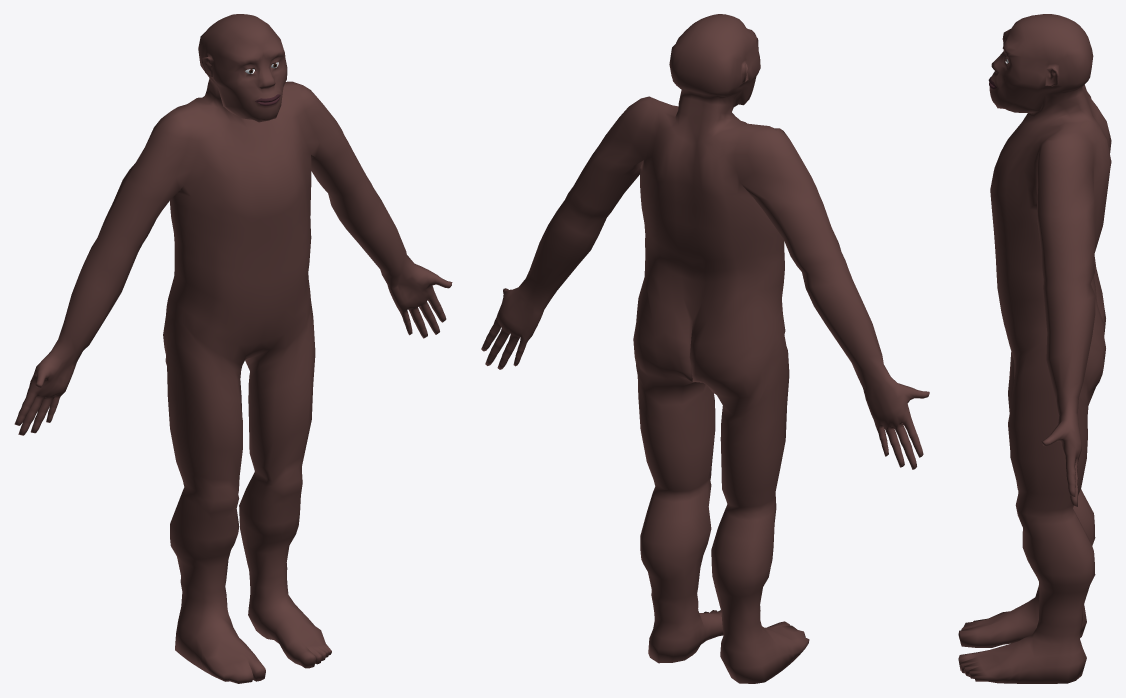
The model's file is floresiensis.glb.
The picture shows the model from 3 angles, left to right: view 1: azimuth 30°, elevation 25°; view 2: azimuth 150°, elevation 25°; view 3: azimuth 270°, elevation 25°; orthographic projection. The views are drawn at different scales.
Parts seen in each view (by area): view 1: Body; view 2: Body; view 3: Body.
Boxes of the visible parts, box(x1,y1,x2,y2) form: Body: box(14, 14, 452, 683); Body: box(481, 14, 929, 683); Body: box(958, 14, 1111, 683).
Bounding box in the file's own units: 0.7224 × 1 × 0.2175.
